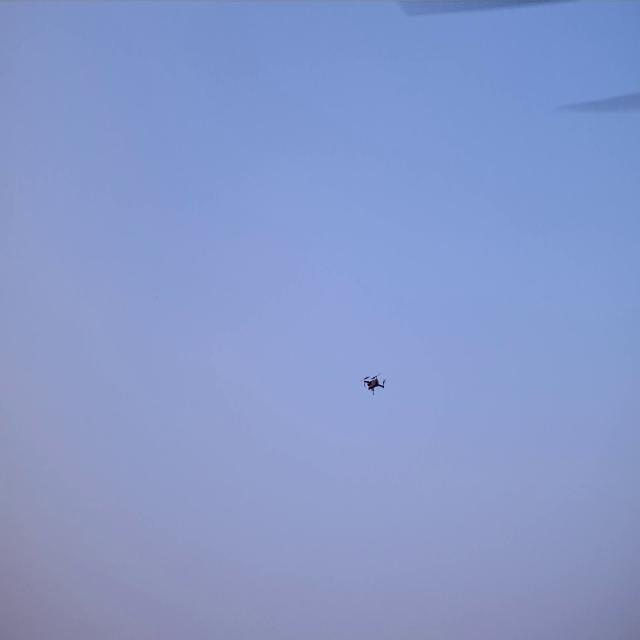UAV: (364, 376, 384, 394)
